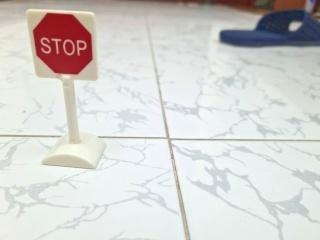stop: (21, 3, 107, 89)
